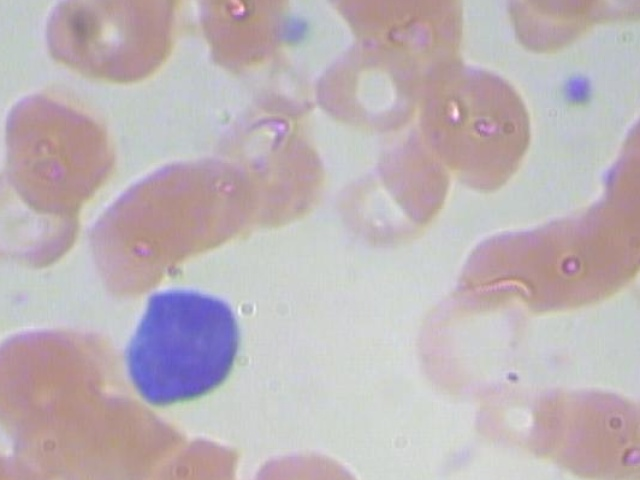Platelets: (548, 59, 601, 114), (280, 4, 322, 50)
RBC: (0, 81, 123, 223), (408, 55, 535, 192), (406, 282, 544, 406), (447, 209, 585, 332), (507, 189, 640, 313), (306, 34, 432, 141), (311, 160, 437, 267), (332, 133, 458, 239), (114, 145, 221, 268), (217, 111, 324, 234), (160, 135, 266, 258), (77, 179, 183, 301), (0, 317, 106, 439), (0, 151, 94, 274), (537, 371, 640, 475), (27, 0, 134, 92), (77, 0, 183, 84), (185, 0, 292, 72), (487, 0, 608, 57), (592, 128, 640, 247), (248, 433, 361, 480), (503, 0, 624, 36), (619, 88, 640, 207), (581, 0, 640, 27), (632, 19, 640, 123), (635, 217, 640, 332), (636, 299, 640, 404)
WBC: (107, 279, 253, 416)
